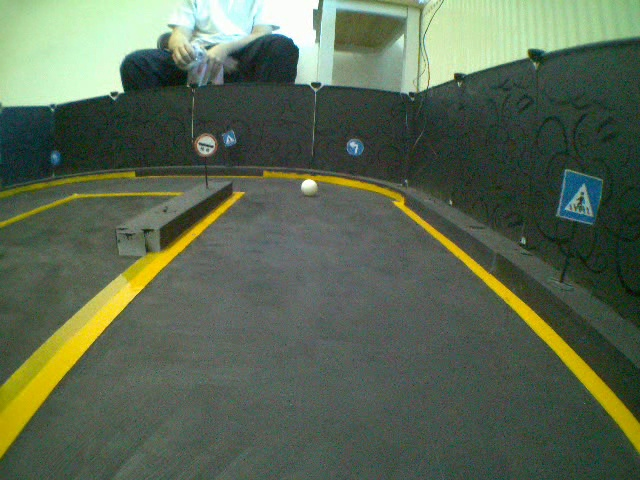ball: (298, 177, 319, 199)
